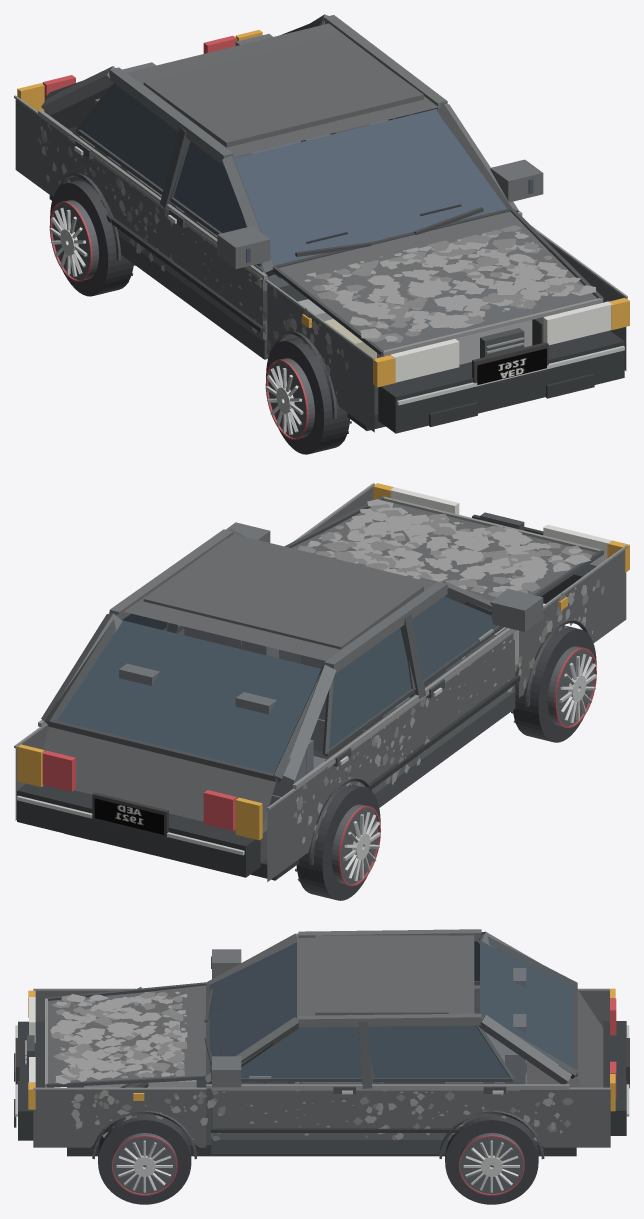
Rendered from iswara-aeroback-2000-rigged.glb.
3 renders of one model, top to bottom at view 1: azimuth 30°, elevation 25°; view 2: azimuth 150°, elevation 25°; view 3: azimuth 270°, elevation 25°, orthographic. The views are drawn at different scales.
Visible parts, largest first — view 1: body_faded_paint, body_glass, hood_faded_paint, body_paint_shadow, body_paint_matte, hood_undercoat, body_rubber, body_paint_black, door_rl_window_glass, hood_dust, door_fl_faded_paint, body_clear_lamp (+21 smaller); view 2: body_faded_paint, trunk_window_glass, trunk_faded_paint, body_paint_matte, body_paint_shadow, hood_undercoat, body_rubber, door_rl_window_glass, door_fl_faded_paint, body_paint_black, hood_dust, hood_faded_paint (+20 smaller); view 3: body_faded_paint, body_paint_matte, body_rubber, body_glass, door_fr_faded_paint, trunk_window_glass, body_paint_shadow, door_rr_window_glass, hood_faded_paint, hood_undercoat, body_paint_black, door_rr_faded_paint (+24 smaller).
Boxes of the visible parts, x1,y1,x2,y2 form: body_faded_paint: (15, 23, 626, 432); body_glass: (234, 109, 533, 265); hood_faded_paint: (278, 211, 597, 350); body_paint_shadow: (49, 126, 624, 433); body_paint_matte: (41, 14, 543, 276); hood_undercoat: (304, 231, 595, 341); body_rubber: (50, 180, 349, 454); body_paint_black: (57, 114, 524, 418); door_rl_window_glass: (81, 85, 178, 189); hood_dust: (312, 225, 583, 342); door_fl_faded_paint: (166, 203, 262, 340); body_clear_lamp: (390, 301, 612, 382); body_faded_paint: (15, 487, 626, 881); trunk_window_glass: (57, 620, 320, 773); trunk_faded_paint: (43, 726, 275, 827); body_paint_matte: (41, 522, 543, 785); body_paint_shadow: (17, 564, 596, 880); hood_undercoat: (307, 499, 590, 593); body_rubber: (64, 625, 596, 900); door_rl_window_glass: (329, 628, 411, 748); door_fl_faded_paint: (419, 627, 514, 759); body_paint_black: (168, 512, 589, 865); hood_dust: (297, 504, 591, 597); hood_faded_paint: (291, 501, 595, 601); body_faded_paint: (33, 935, 610, 1147); body_paint_matte: (205, 929, 571, 1087); body_rubber: (98, 1114, 538, 1204); body_glass: (209, 942, 296, 1079); door_fr_faded_paint: (213, 1083, 367, 1139); trunk_window_glass: (480, 940, 572, 1067); body_paint_shadow: (14, 993, 626, 1156); door_rr_window_glass: (368, 1025, 509, 1077); hood_faded_paint: (48, 985, 205, 1083); hood_undercoat: (50, 991, 187, 1084); body_paint_black: (27, 1021, 544, 1159); door_rr_faded_paint: (367, 1083, 518, 1139).
Size of the model in its own units: 1.95 by 1.34 by 4.21.
28 materials, 1 textured.
